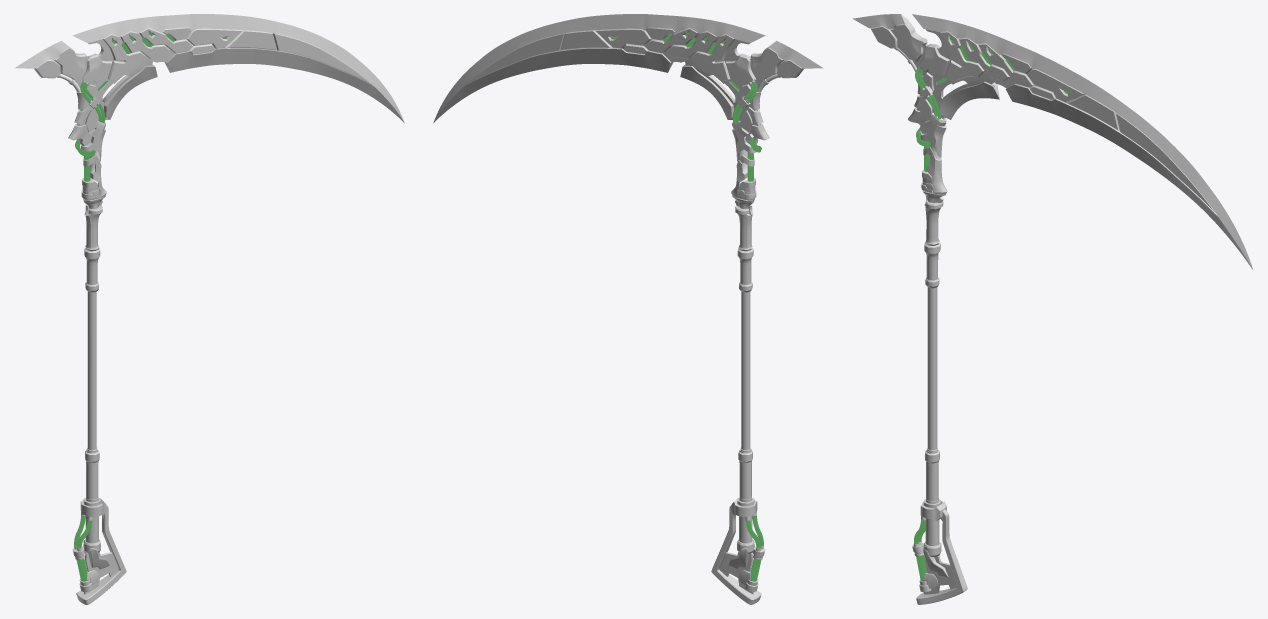
File: Scythe.glb
3 views of the same model, side by side, from view 1: azimuth 30°, elevation 25°; view 2: azimuth 150°, elevation 25°; view 3: azimuth 330°, elevation 25° (orthographic). The views are drawn at different scales.
Visible parts, largest first — view 1: Blade, Pole, Inner Section; view 2: Blade, Pole, Inner Section; view 3: Blade, Pole, Inner Section.
Part boxes in pixels (<box>): Blade: <box>14,14,404,208</box>; Pole: <box>72,205,126,604</box>; Inner Section: <box>74,39,174,200</box>; Blade: <box>433,14,823,208</box>; Pole: <box>711,205,765,604</box>; Inner Section: <box>663,39,763,200</box>; Blade: <box>852,14,1253,270</box>; Pole: <box>912,200,967,604</box>; Inner Section: <box>912,29,1014,194</box>.
Size of the model in its own units: 3.36 by 4.71 by 0.1825.
